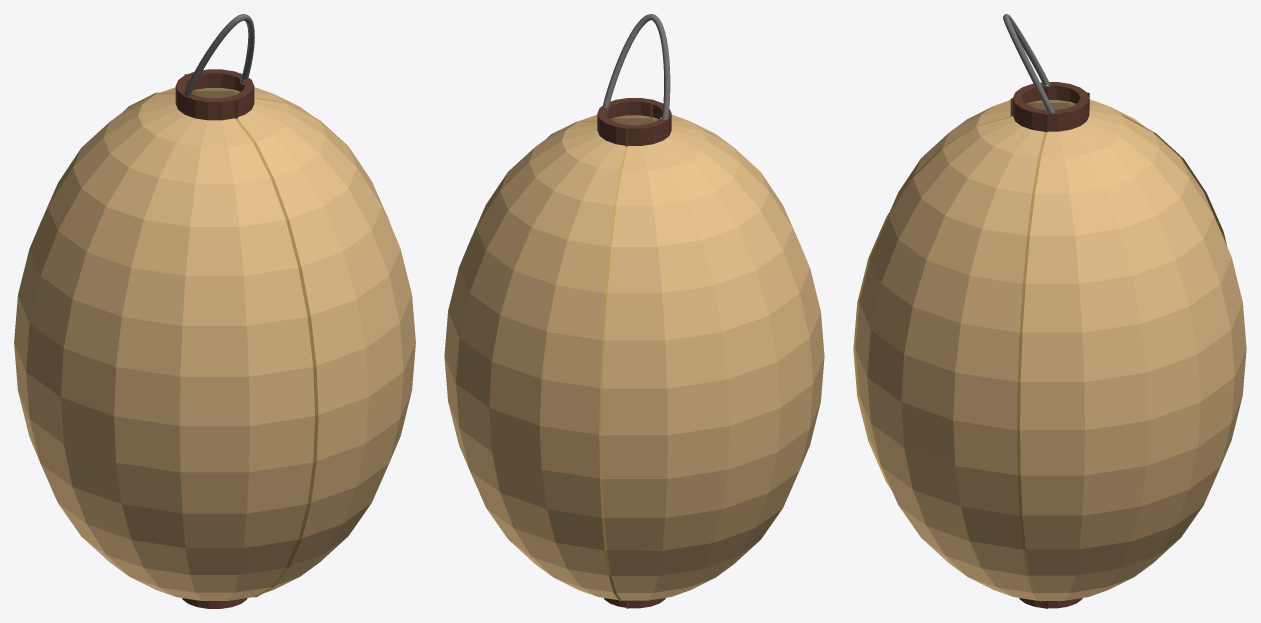
Rendered from lantern.fbx.
The picture shows the model from 3 angles, left to right: view 1: azimuth 30°, elevation 25°; view 2: azimuth 150°, elevation 25°; view 3: azimuth 270°, elevation 25°; orthographic projection. The views are drawn at different scales.
Visible parts, largest first — view 1: Sphere, NurbsPath; view 2: Sphere, NurbsPath; view 3: Sphere, NurbsPath.
Boxes of the visible parts, x1=… form: Sphere: x1=14, y1=69, x2=415, y2=608; NurbsPath: x1=184, y1=14, x2=254, y2=96; Sphere: x1=444, y1=98, x2=824, y2=608; NurbsPath: x1=602, y1=14, x2=670, y2=119; Sphere: x1=853, y1=82, x2=1246, y2=608; NurbsPath: x1=1003, y1=14, x2=1054, y2=113.
Size of the model in its own units: 236 by 391 by 240.
